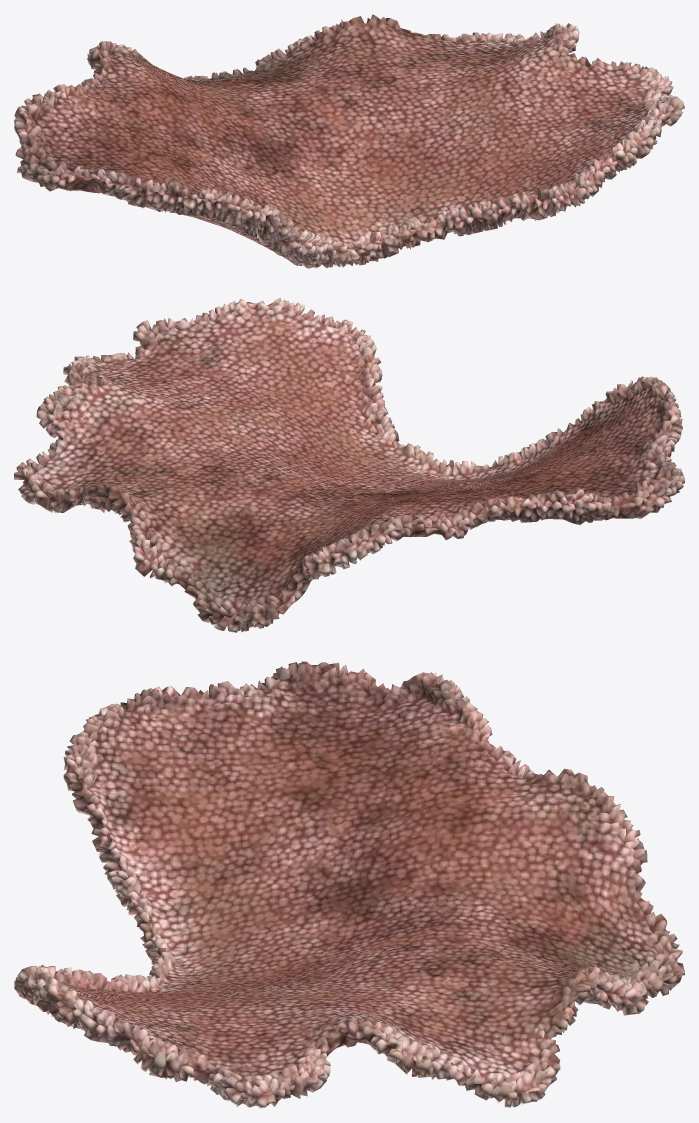
The model's file is TableCoral_03-transformed.glb.
3 renders of one model, top to bottom at view 1: azimuth 30°, elevation 25°; view 2: azimuth 150°, elevation 25°; view 3: azimuth 270°, elevation 25°, orthographic. The views are drawn at different scales.
Parts seen in each view (by area): view 1: TableCoral_03; view 2: TableCoral_03; view 3: TableCoral_03.
Boxes of the visible parts, left/top/right/bottom form: TableCoral_03: left=14, top=14, right=684, bottom=268; TableCoral_03: left=14, top=297, right=684, bottom=632; TableCoral_03: left=14, top=661, right=684, bottom=1108.
Size of the model in its own units: 5.85 by 1.28 by 4.43.
Materials: 1 (1 with a texture image).
